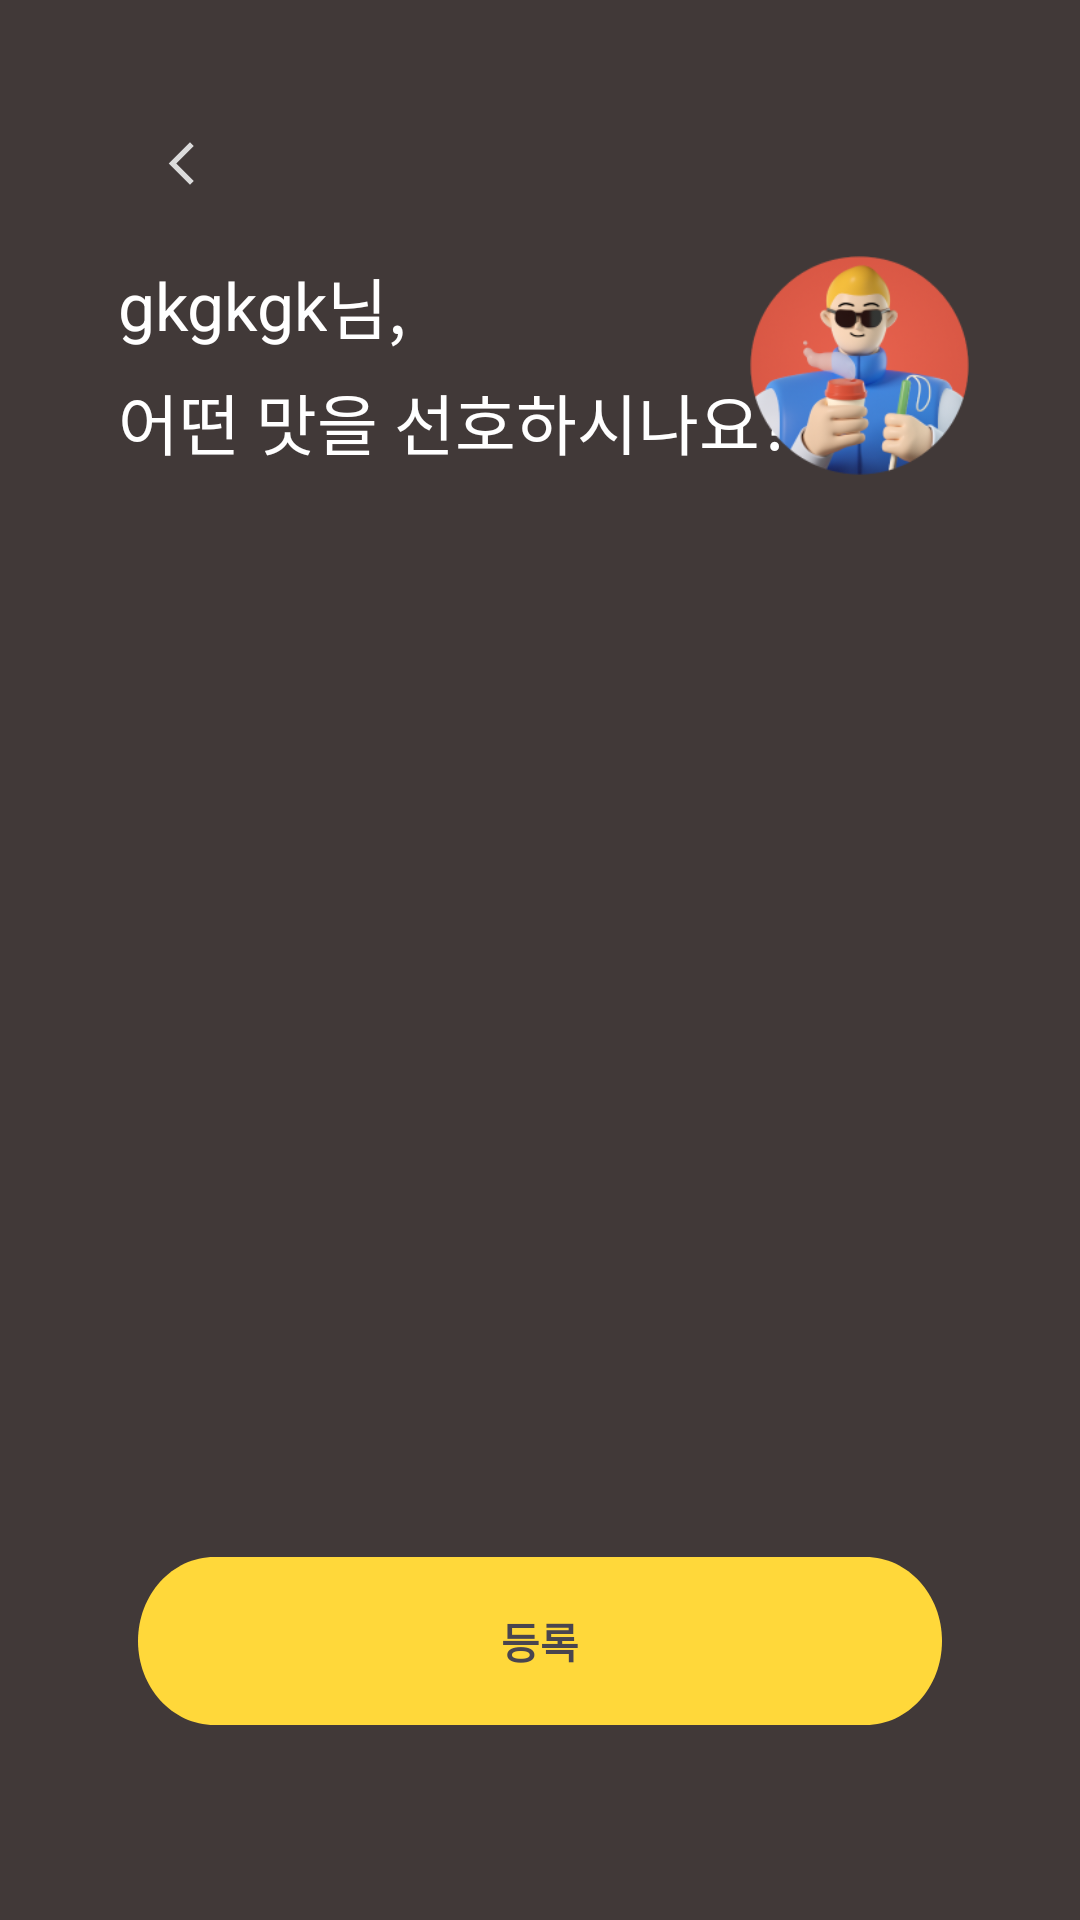

Named icons in this screenshot (1080px x 1920px) and their bounding boxes, (x1, y1, x2, y2):
arrow left: (169, 142, 194, 185)
user: (750, 256, 969, 475)
